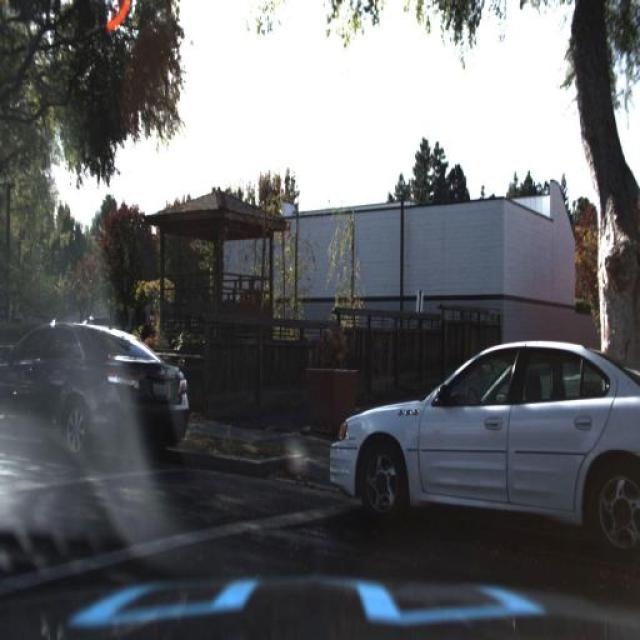car: (307, 334, 639, 538), (0, 312, 196, 480)
